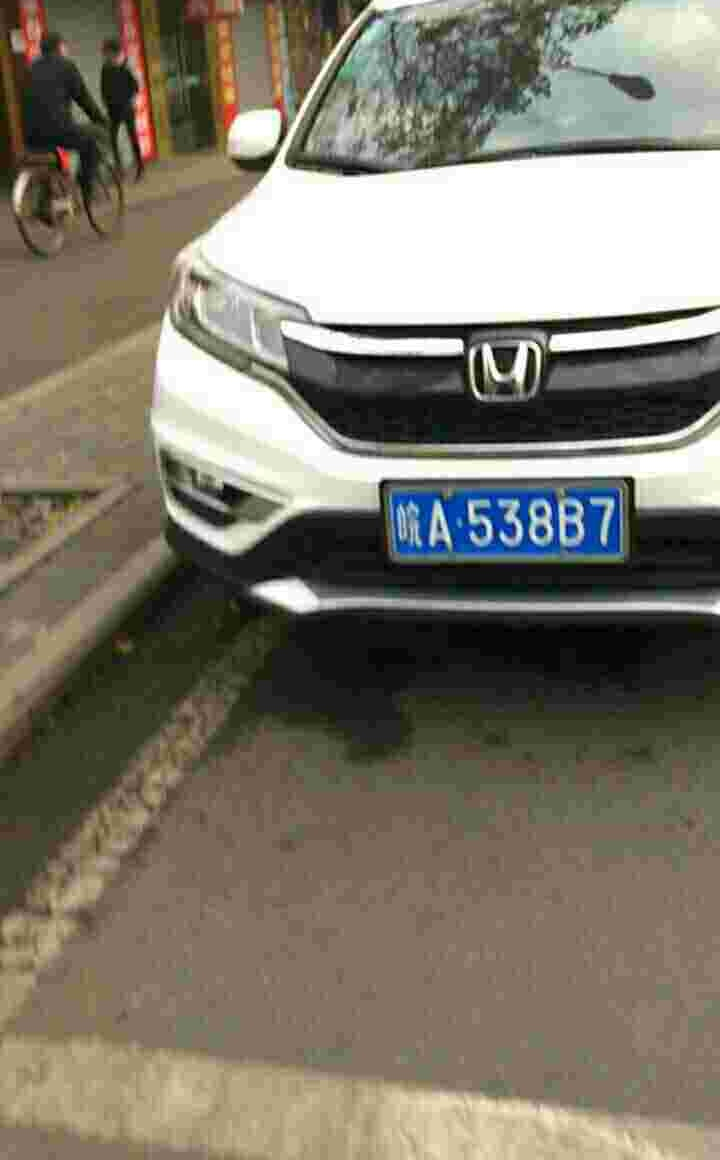license_plate: (390, 481, 621, 564)
